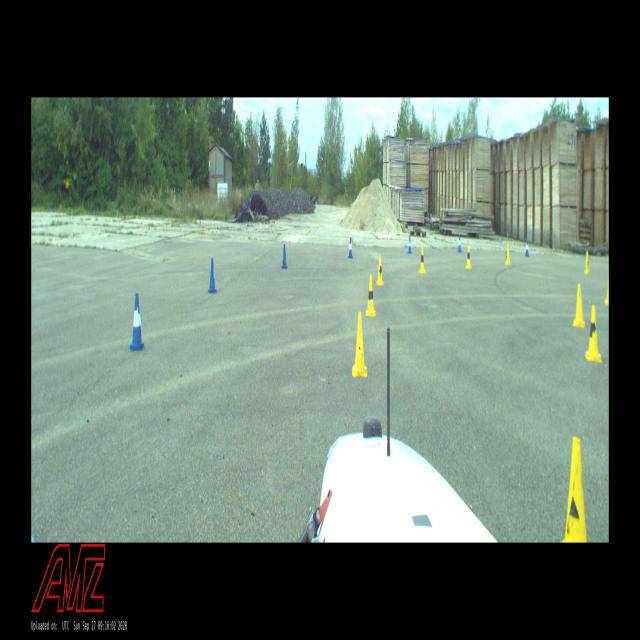blue_cone: (130, 294, 144, 349), (208, 258, 216, 293), (282, 244, 288, 269), (348, 238, 353, 258), (458, 234, 462, 252), (408, 236, 412, 253), (525, 240, 529, 256)
yellow_cone: (565, 437, 587, 542), (352, 312, 367, 376), (586, 306, 601, 361), (573, 284, 585, 327), (366, 275, 376, 316), (377, 256, 383, 284), (420, 248, 426, 272), (584, 252, 590, 274), (604, 275, 608, 304), (466, 246, 471, 268), (506, 244, 510, 264)
